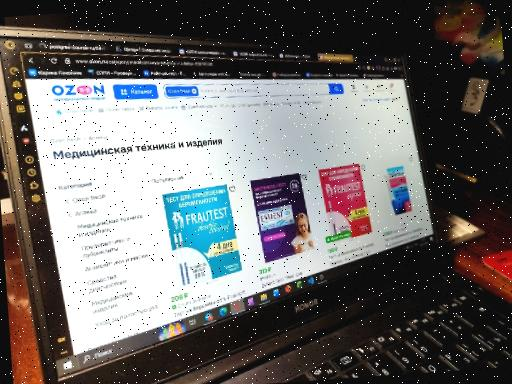ozon: (24, 51, 438, 361)
